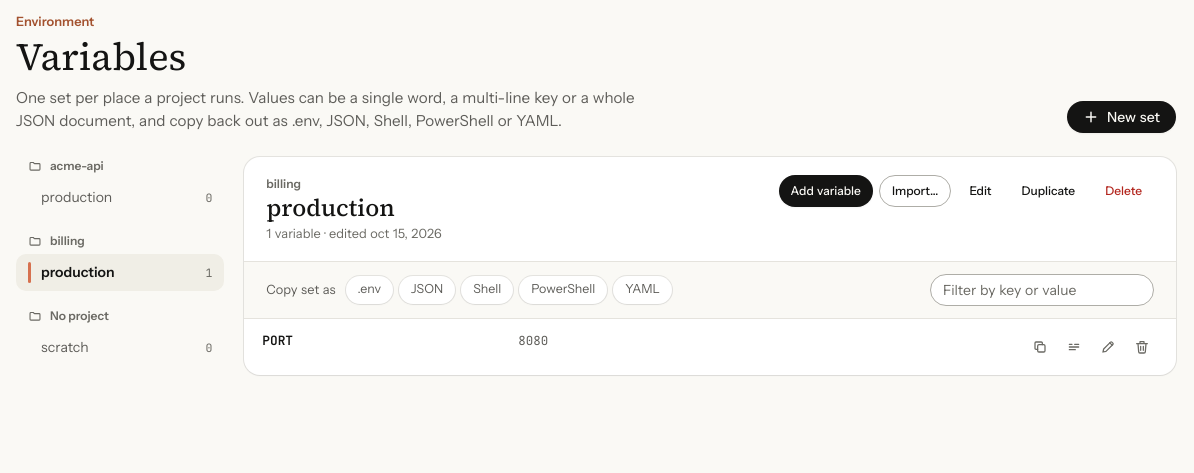
it: EnvPage › files sets under their projects, so two projects can each have a production
Expected: the text "8080" is shown, [518, 332, 548, 348]
Expected: the headings read "acme-api", "billing", "No project", in this order, [28, 158, 104, 173]; [28, 233, 85, 248]; [28, 308, 109, 323]
Click the button "production 0" at point(120, 197), box [16, 179, 224, 216]
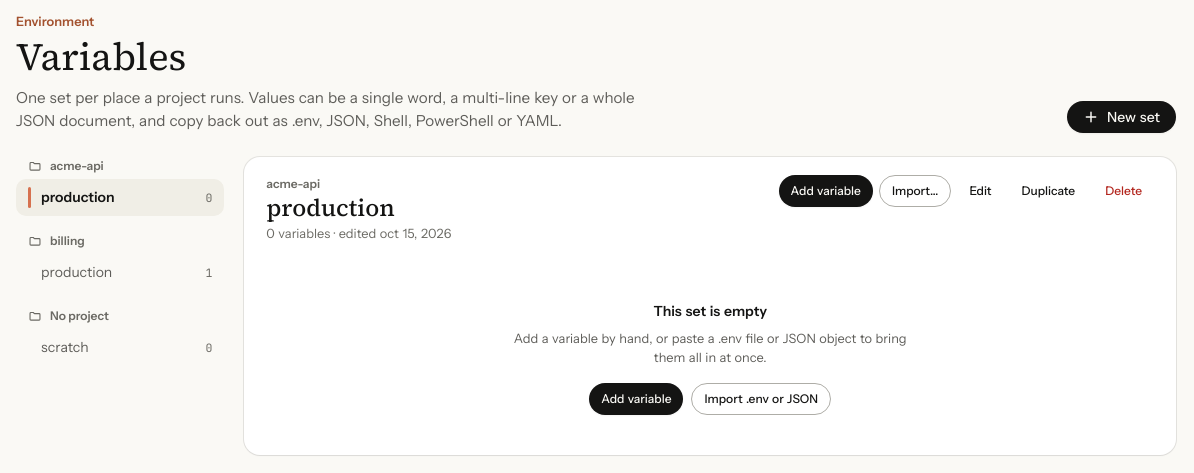
Expected: the heading "production" is shown, [266, 191, 395, 224]
Now the element "production" shows "acme-api", box [266, 176, 320, 191]
